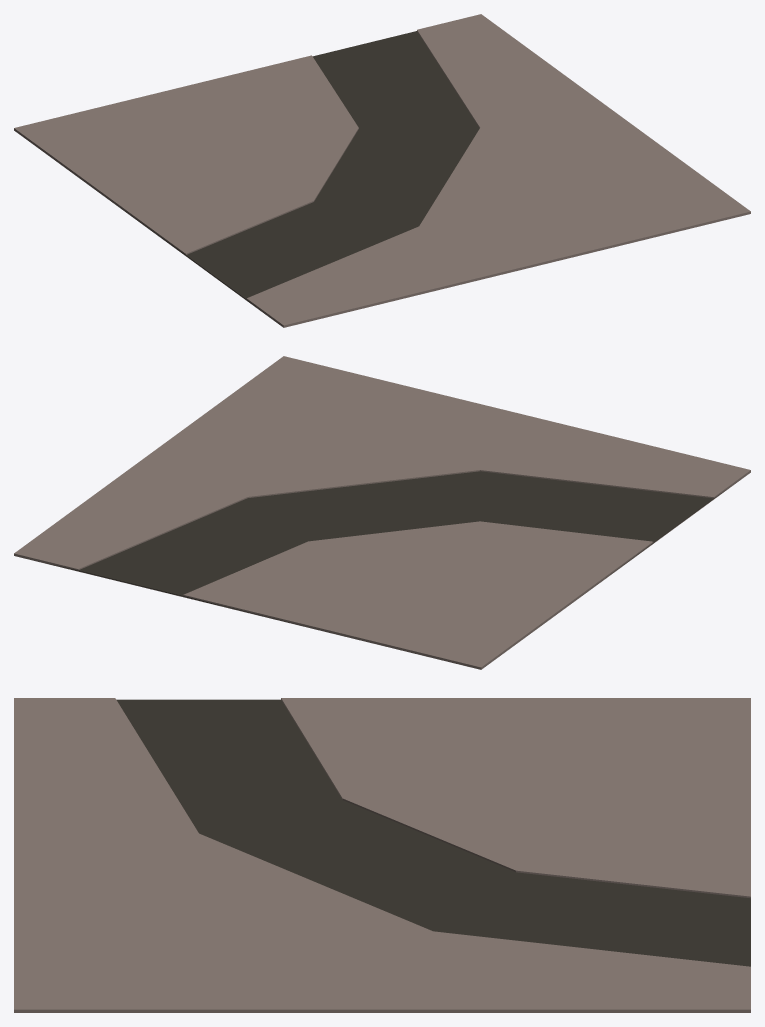
Rendered from Env_1lane_CurveA_col.fbx.
3 renders of one model, top to bottom at view 1: azimuth 30°, elevation 25°; view 2: azimuth 150°, elevation 25°; view 3: azimuth 270°, elevation 25°, orthographic. The views are drawn at different scales.
Parts seen in each view (by area): view 1: Env_1lane_CurveA_col; view 2: Env_1lane_CurveA_col; view 3: Env_1lane_CurveA_col.
Part boxes in pixels (box(x1,y1,x2,y2)): Env_1lane_CurveA_col: box(14, 14, 750, 327); Env_1lane_CurveA_col: box(14, 356, 750, 669); Env_1lane_CurveA_col: box(14, 698, 750, 1012).
Size of the model in its own units: 4000 by 20 by 4000.
